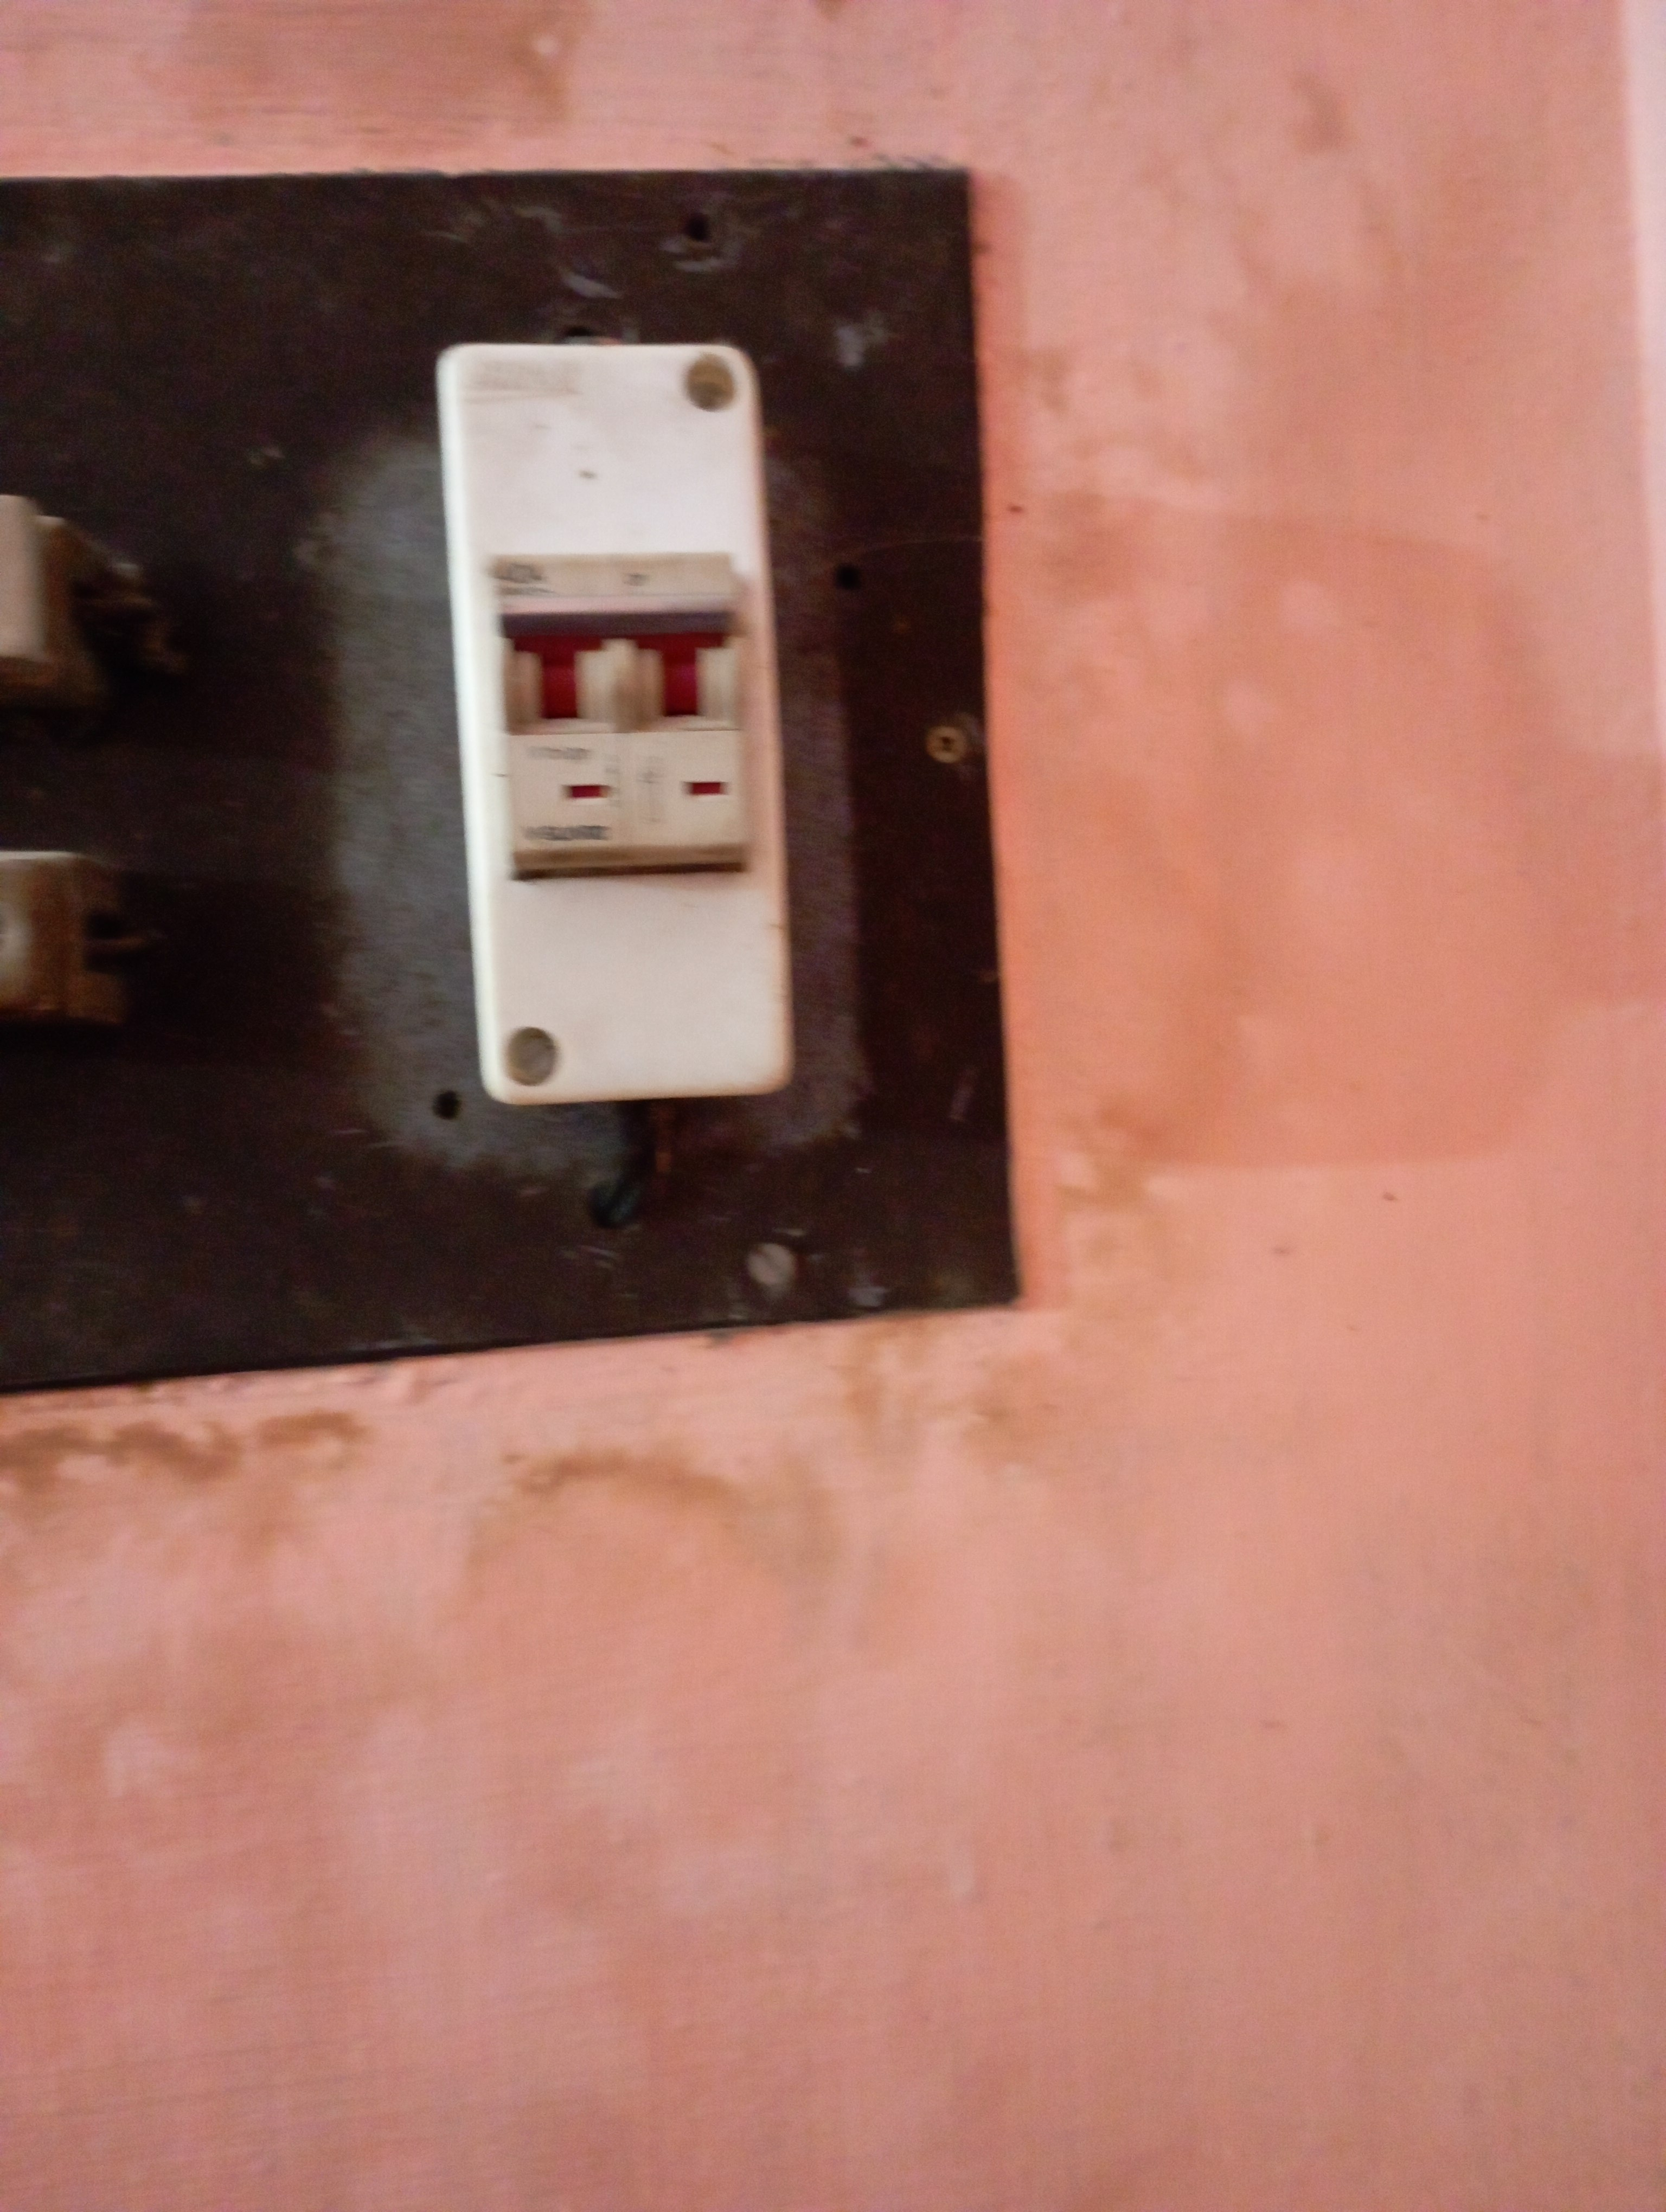ciruit_breaker: (406, 330, 836, 1142)
fuse: (0, 829, 177, 1044), (0, 502, 168, 705)
